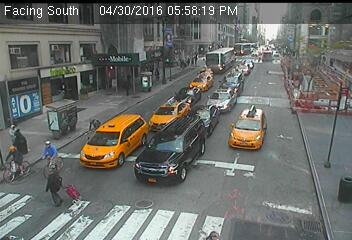neg: (4, 144, 35, 185), (150, 106, 179, 144), (254, 100, 280, 134), (60, 103, 81, 132), (95, 112, 116, 140)
pos: (34, 164, 69, 210), (2, 123, 22, 149), (152, 65, 164, 81)
